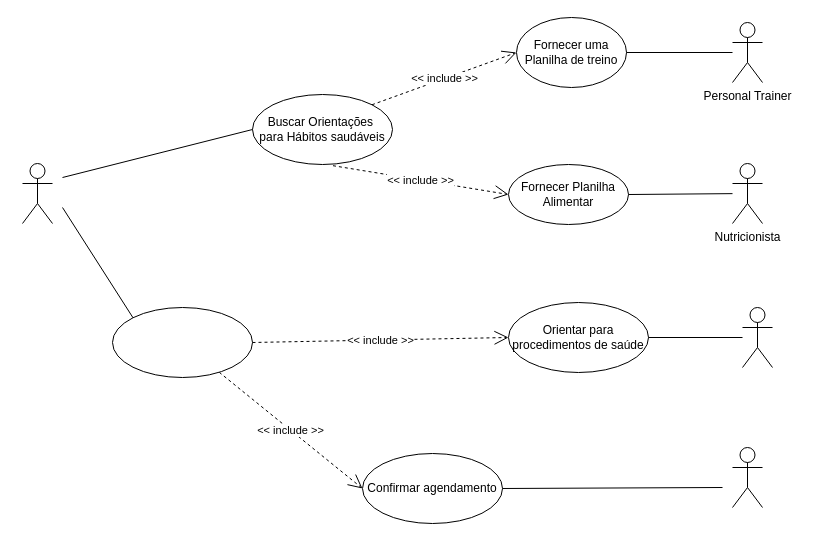
Some shapes in this 833 by 546 pixel diagram are drawn without their labels. Each missing label, with the centre of its shape:
"Agendar consulta médica" belongs at point (182, 342).
"Medico" belongs at point (757, 337).
"Sistema de Agendamento" belongs at point (747, 477).
"Usuário" belongs at point (37, 193).
